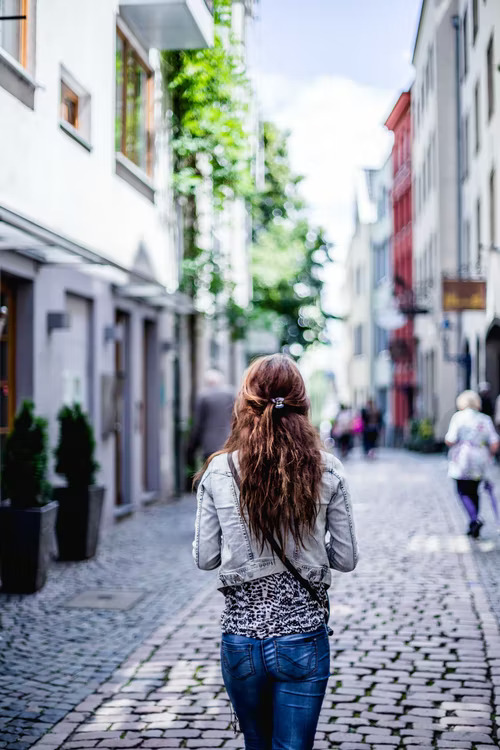person: (193, 353, 357, 750)
